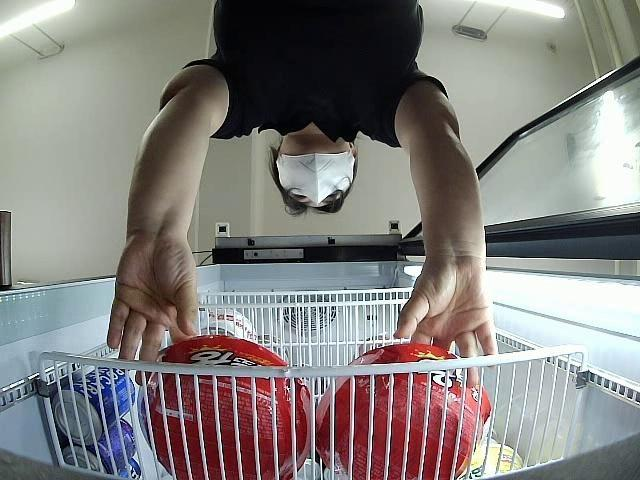10_wangTtukkeong: (311, 342, 490, 480), (142, 335, 307, 480)
